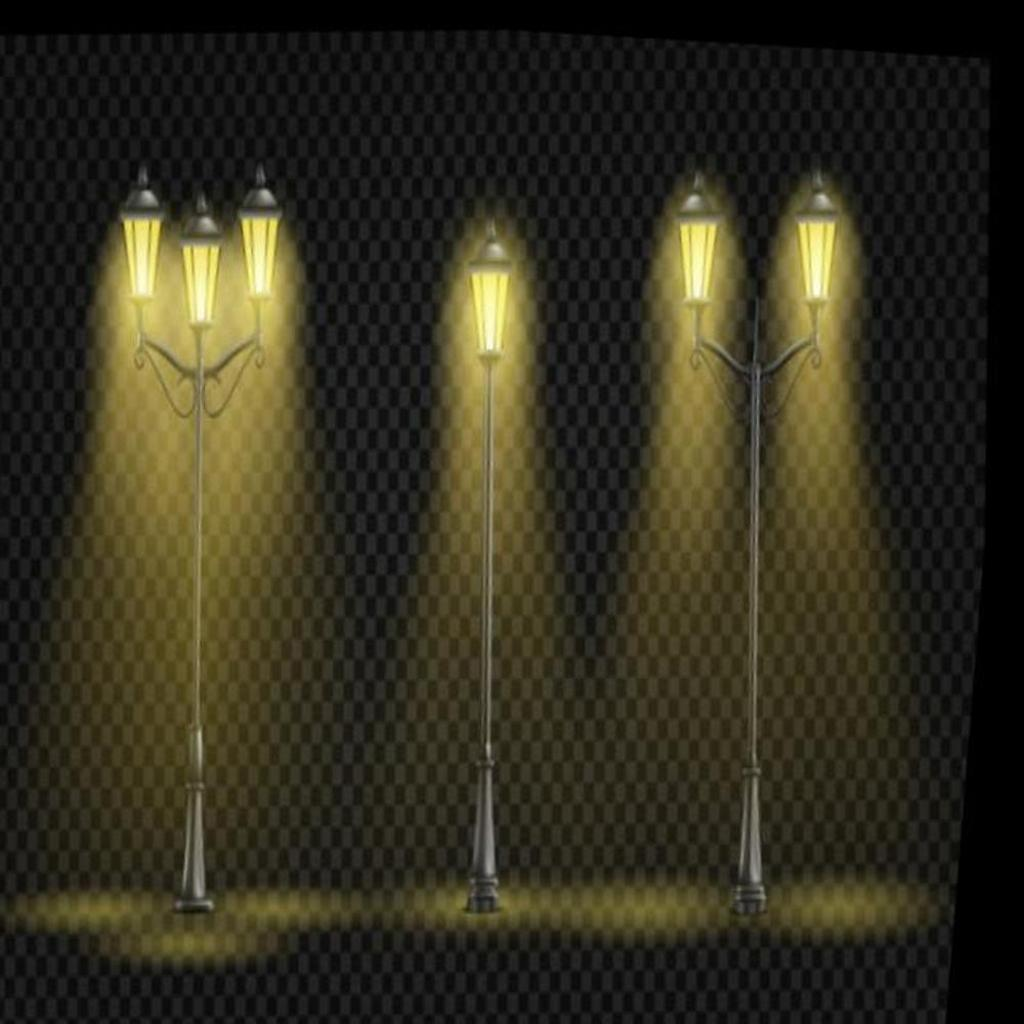shelf: (603, 112, 933, 939), (48, 131, 355, 942), (388, 168, 611, 934)
